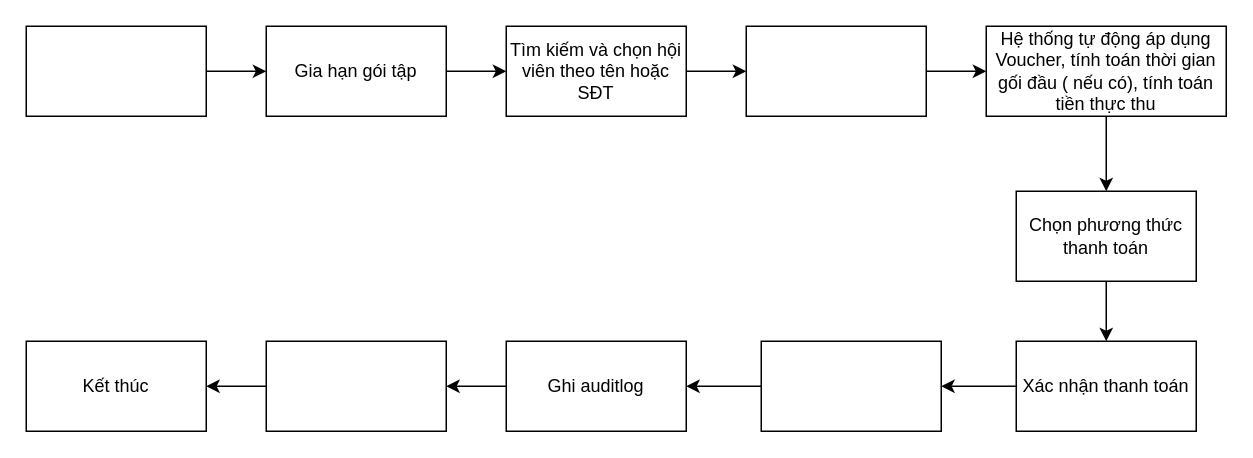
Image size: 1253x458. Some labels were removed from this diagram. Here are the shapes that lost their labels. From the top down, the centre of each, then its label:
At (x=115, y=70): "Cashier truy cập gói tập".
At (x=835, y=70): "Lựa chọn gói tập".
At (x=355, y=385): "Thông báo thành công".
At (x=850, y=385): "Tạo hóa đơn, lưu gói tập, lưu lịch sử đăng ký".
